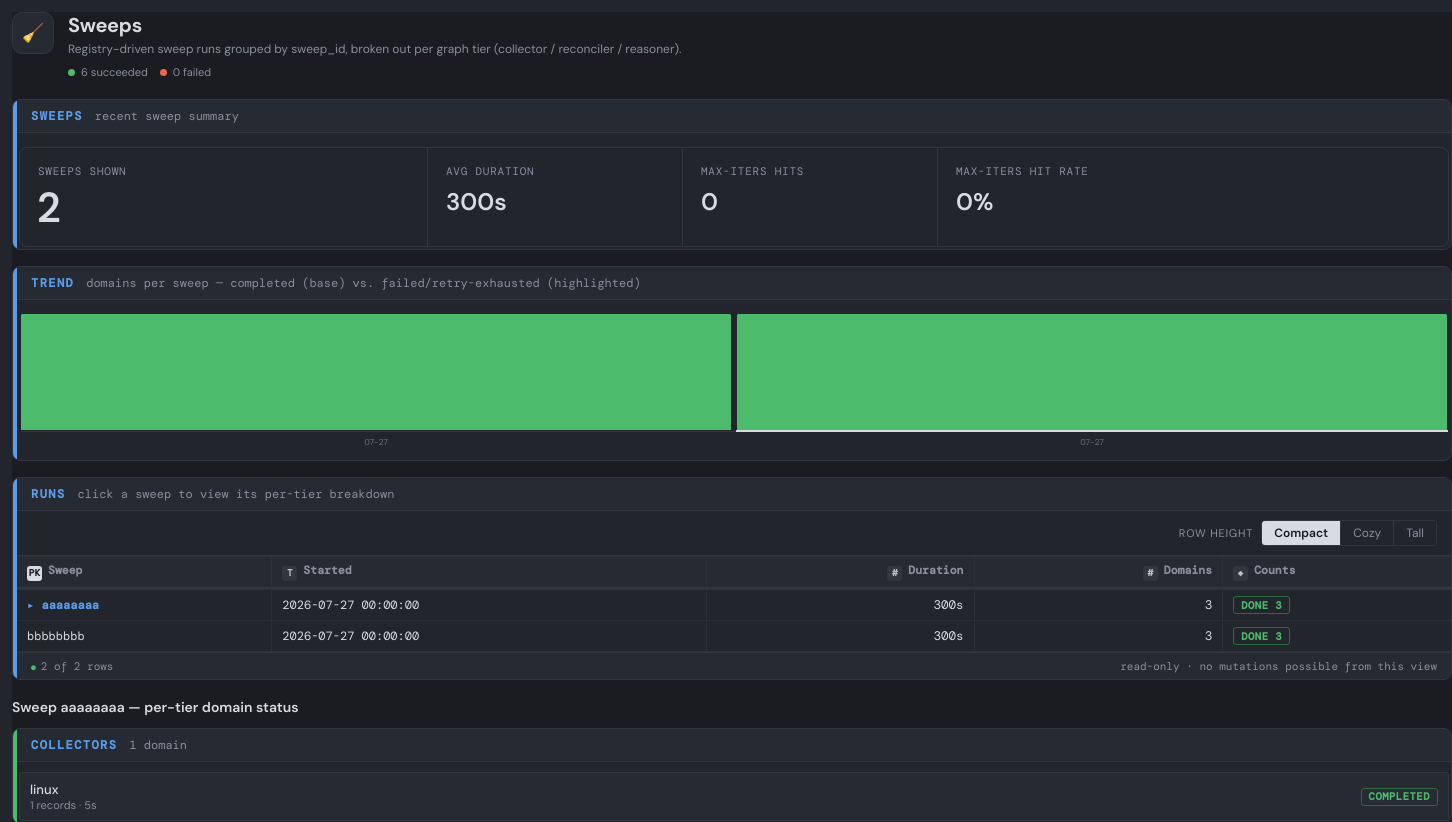
Test: Sweeps page › clicking a different sweep row loads its own detail
Expected: the text "linux" is shown, x1=30 y1=781 x2=58 y2=798
Step 1. Click the text "bbbbbbbb" → coordinates (56, 636), box x1=27 y1=628 x2=85 y2=644
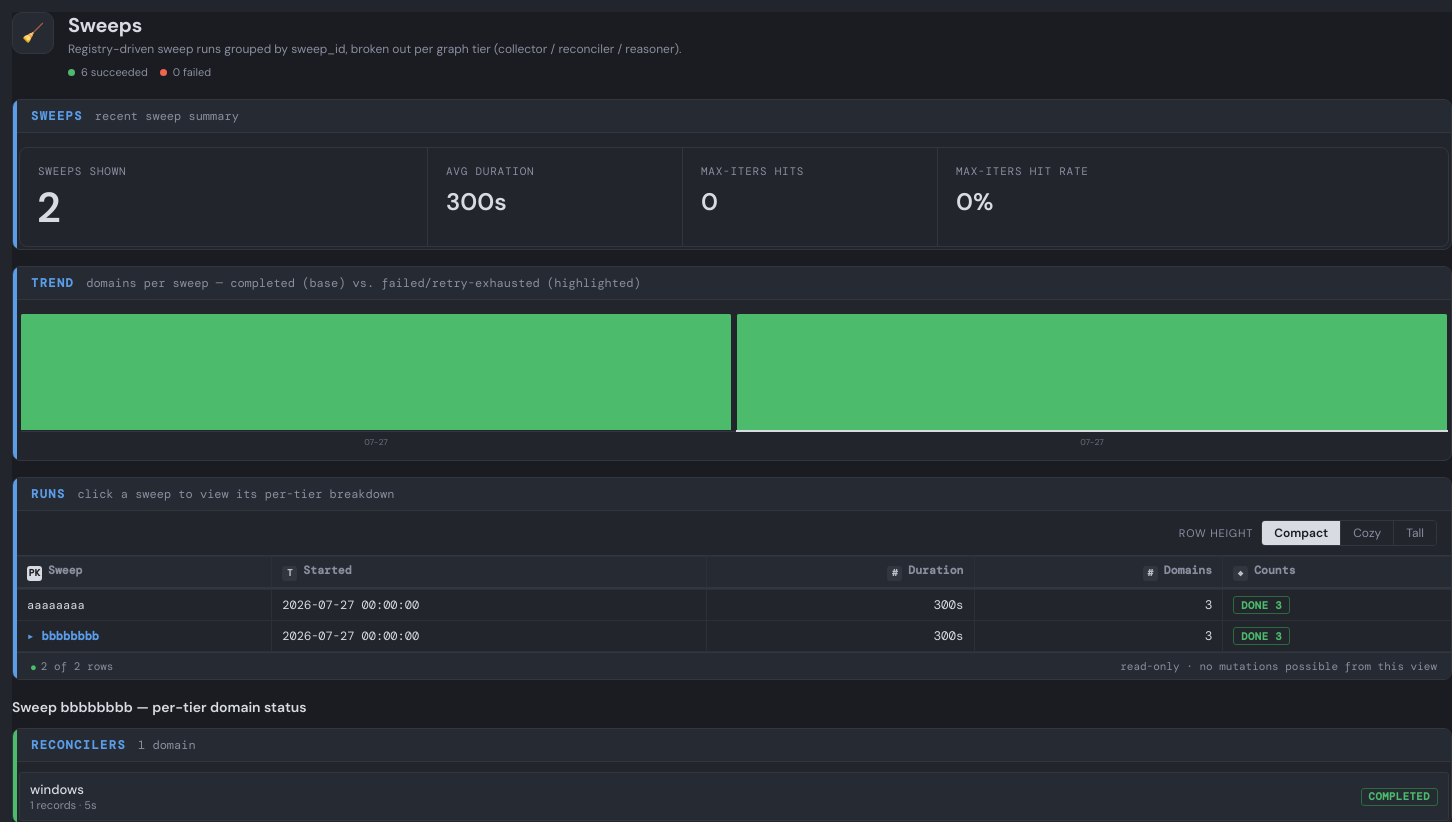
Result: the text "windows" is shown at x1=30 y1=781 x2=84 y2=798
